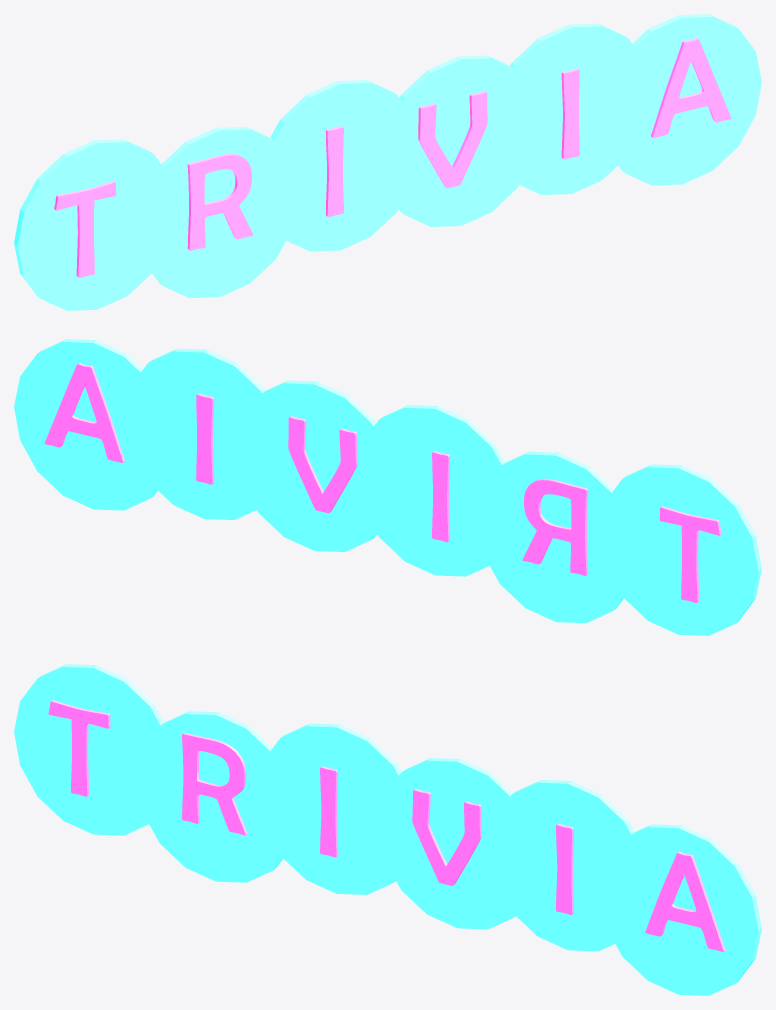
File: Trivia_Sign.glb
3 renders of one model, top to bottom at view 1: azimuth 30°, elevation 25°; view 2: azimuth 150°, elevation 25°; view 3: azimuth 330°, elevation 25°, orthographic.
Visible parts, largest first — view 1: Trivia Sign Components.008, Trivia Sign Components.011, Trivia Sign Components.013, Trivia Sign Components.010, Trivia Sign Components.007, Trivia Sign Components.009, Trivia Sign Components.012; view 2: Trivia Sign Components.008, Trivia Sign Components.011, Trivia Sign Components.013, Trivia Sign Components.012, Trivia Sign Components.009, Trivia Sign Components.010, Trivia Sign Components.007; view 3: Trivia Sign Components.008, Trivia Sign Components.013, Trivia Sign Components.010, Trivia Sign Components.012, Trivia Sign Components.009, Trivia Sign Components.007, Trivia Sign Components.011.
Part boxes in pixels (x1,y1,x2,y2): Trivia Sign Components.008: (14, 139, 176, 310); Trivia Sign Components.011: (382, 55, 540, 226); Trivia Sign Components.013: (604, 14, 761, 185); Trivia Sign Components.010: (262, 80, 402, 251); Trivia Sign Components.007: (54, 37, 731, 277); Trivia Sign Components.009: (143, 126, 299, 298); Trivia Sign Components.012: (492, 23, 650, 194); Trivia Sign Components.008: (599, 464, 761, 635); Trivia Sign Components.011: (235, 380, 393, 551); Trivia Sign Components.013: (14, 339, 172, 510); Trivia Sign Components.012: (124, 348, 283, 519); Trivia Sign Components.009: (476, 451, 635, 623); Trivia Sign Components.010: (356, 405, 505, 576); Trivia Sign Components.007: (44, 362, 721, 602); Trivia Sign Components.008: (14, 664, 172, 835); Trivia Sign Components.013: (599, 824, 761, 995); Trivia Sign Components.010: (257, 723, 415, 894); Trivia Sign Components.012: (488, 780, 646, 951); Trivia Sign Components.009: (137, 711, 295, 882); Trivia Sign Components.007: (48, 700, 725, 951); Trivia Sign Components.011: (378, 758, 536, 929).
Bounding box in the file's own units: 3.37 × 0.7954 × 0.06.
